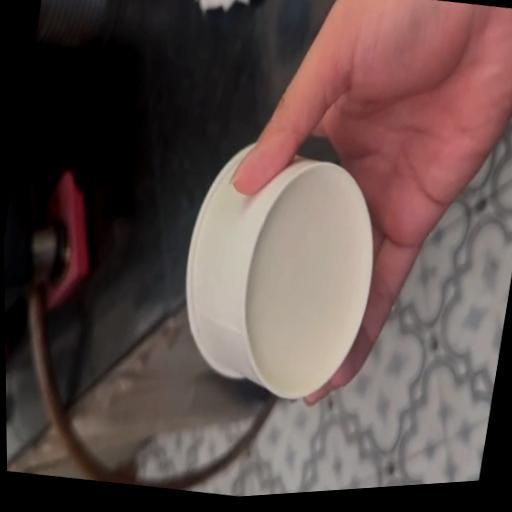Ly_giay: (186, 147, 372, 397)
